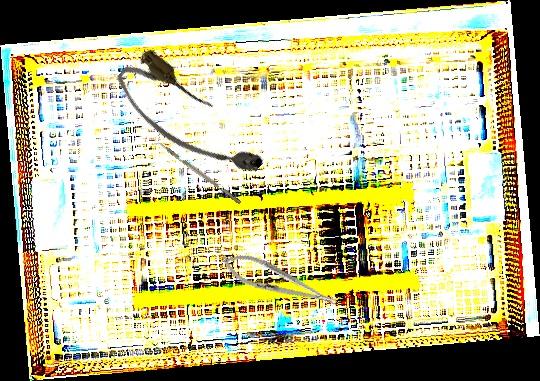Cannula: (107, 43, 272, 198)
Chopper: (151, 137, 242, 209)
Needle Holder: (216, 246, 342, 317)
